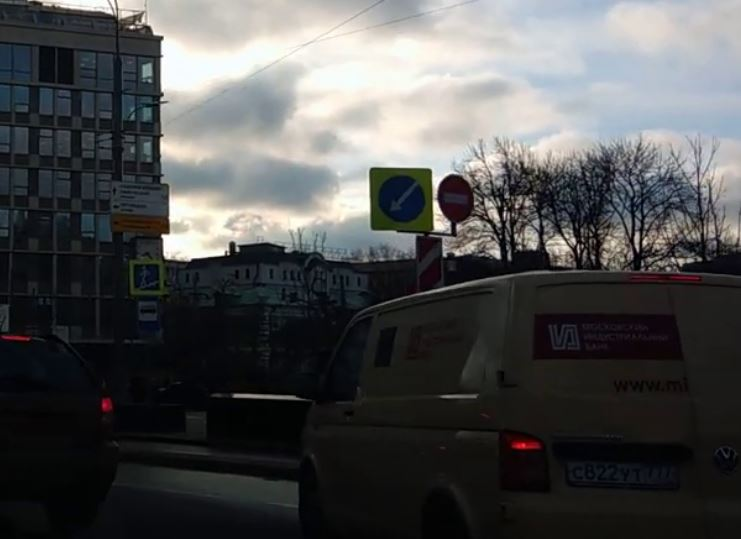Sagdan Git: (375, 172, 431, 221)
